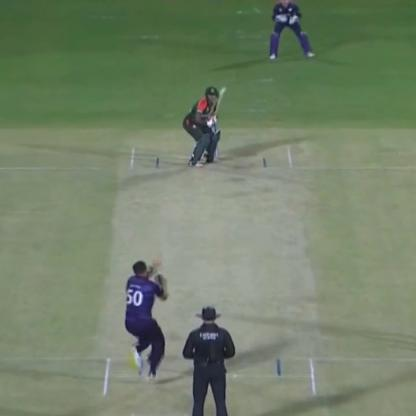bat: (210, 75, 231, 126)
pitch: (99, 137, 320, 407)
